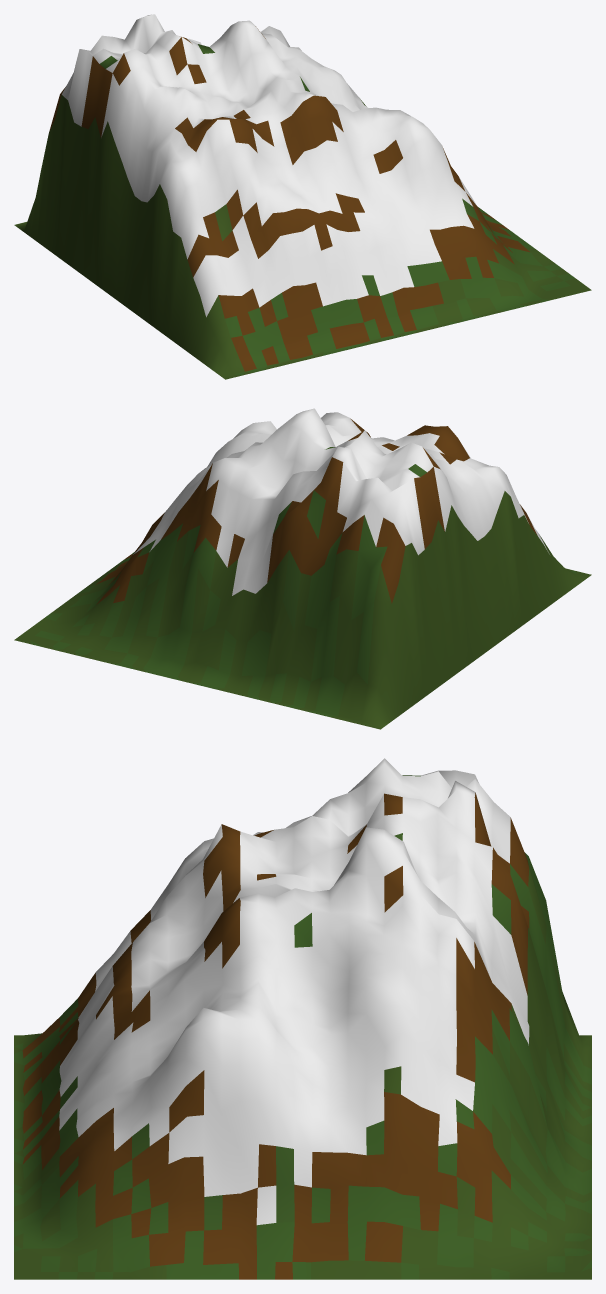
Rendered from S0.mountain.B.glb.
The picture shows the model from 3 angles, top to bottom: view 1: azimuth 30°, elevation 25°; view 2: azimuth 150°, elevation 25°; view 3: azimuth 270°, elevation 25°; orthographic projection. The views are drawn at different scales.
Visible parts, largest first — view 1: Landscape.005; view 2: Landscape.005; view 3: Landscape.005.
Part boxes in pixels (<box>): Landscape.005: <box>14,14,591,379</box>; Landscape.005: <box>14,408,591,729</box>; Landscape.005: <box>14,758,591,1279</box>.
Bounding box in the file's own units: 303 × 178 × 303.
